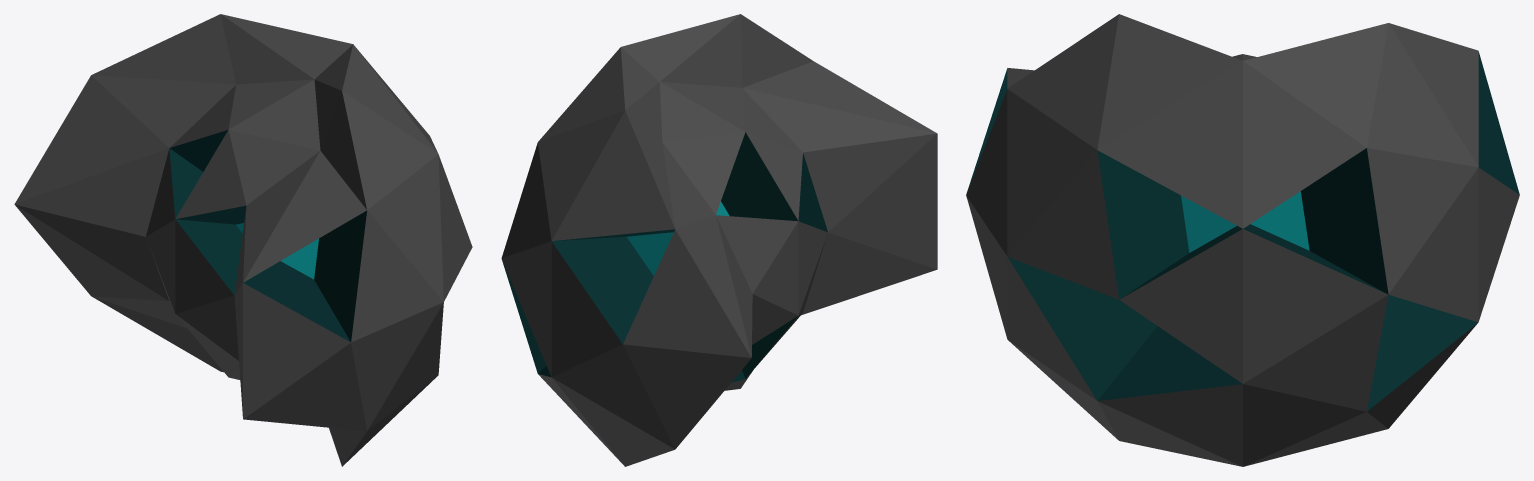
Rendered from Meteor 3.fbx.
3 views of the same model, side by side, from view 1: azimuth 30°, elevation 25°; view 2: azimuth 150°, elevation 25°; view 3: azimuth 270°, elevation 25° (orthographic). The views are drawn at different scales.
Parts seen in each view (by area): view 1: Icosphere.003; view 2: Icosphere.003; view 3: Icosphere.003.
Boxes of the visible parts, x1,y1,x2,y2 form: Icosphere.003: [14, 14, 472, 466]; Icosphere.003: [501, 14, 937, 466]; Icosphere.003: [966, 14, 1519, 466].
Size of the model in its own units: 148 by 170 by 200.
